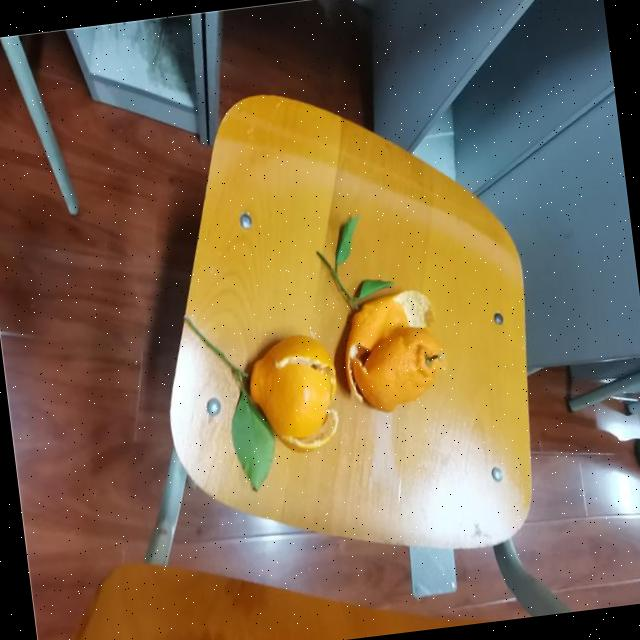orange-peel: (242, 329, 343, 446), (347, 320, 450, 414)
